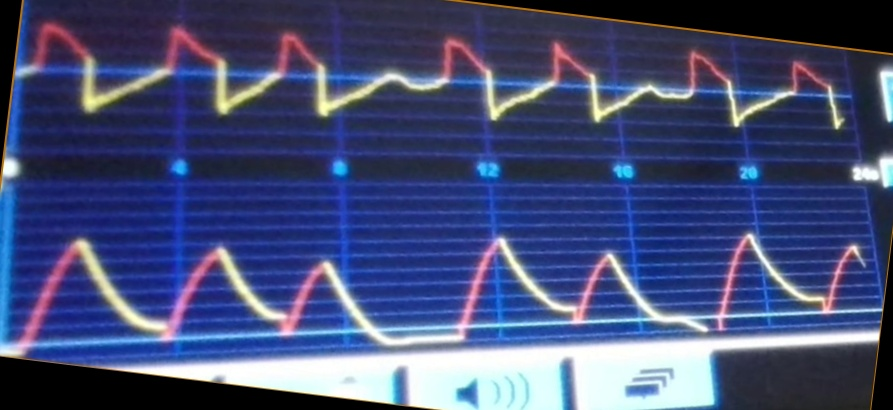Ineffective_effort Flow: (25, 16, 848, 138)
Ineffective_effort Volume: (14, 224, 867, 351)
